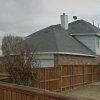Chimney: (54, 8, 69, 35)
